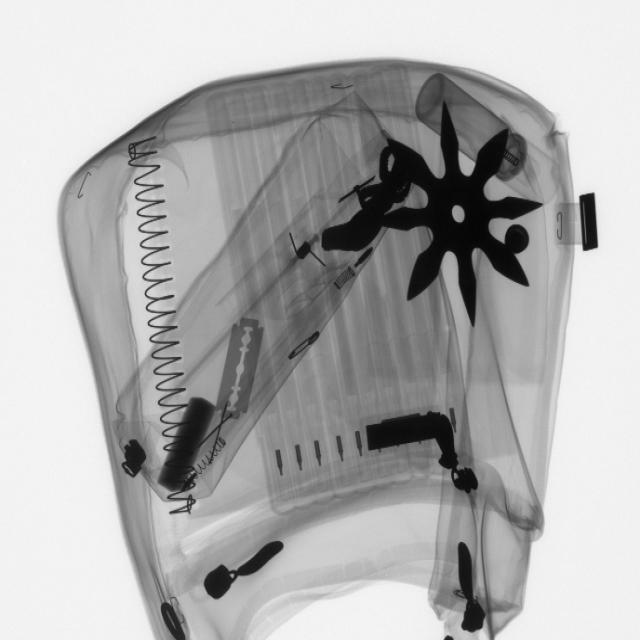BLADE: (213, 310, 271, 426)
SHURIKEN: (359, 105, 547, 326)
